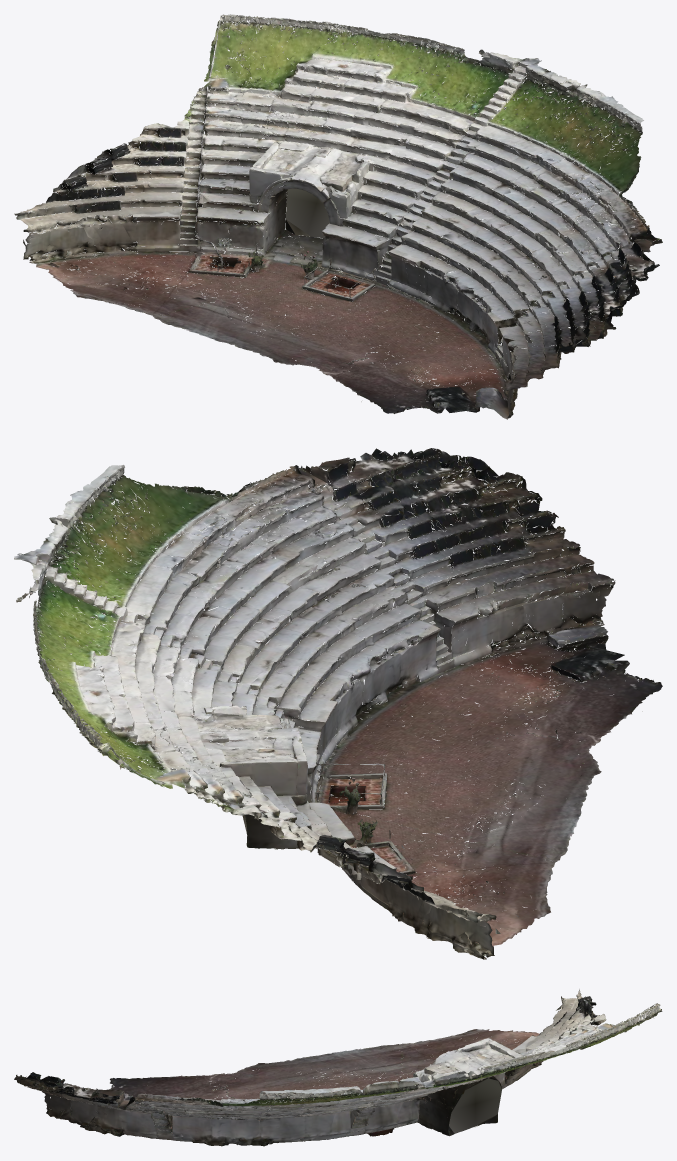
File: romanstadium.glb
3 views of the same model, one above another, from view 1: azimuth 30°, elevation 25°; view 2: azimuth 150°, elevation 25°; view 3: azimuth 270°, elevation 25° (orthographic). The views are drawn at different scales.
Visible parts, largest first — view 1: Object_2; view 2: Object_2; view 3: Object_2.
Part boxes in pixels (box(x1,y1,x2,y2)): Object_2: box(14, 14, 662, 419); Object_2: box(14, 448, 662, 959); Object_2: box(14, 989, 662, 1146).
Bounding box in the file's own units: 22.54 × 7.69 × 30.33.
1 material, 1 textured.
